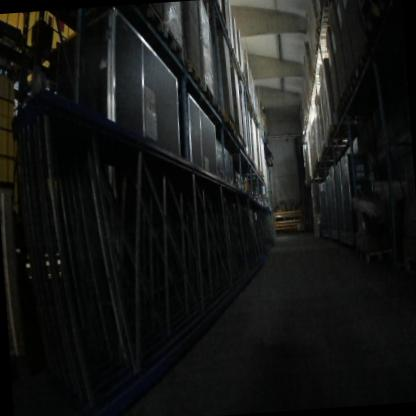pallet: (161, 24, 184, 65), (137, 3, 164, 34), (186, 60, 203, 92), (202, 82, 215, 107), (317, 7, 331, 28), (316, 27, 328, 42), (223, 113, 233, 130), (214, 100, 223, 118), (315, 40, 327, 53), (217, 1, 223, 19), (327, 125, 334, 138), (232, 127, 238, 141), (237, 134, 242, 147), (233, 49, 237, 62), (241, 141, 246, 151), (243, 73, 247, 83), (237, 61, 241, 70)
